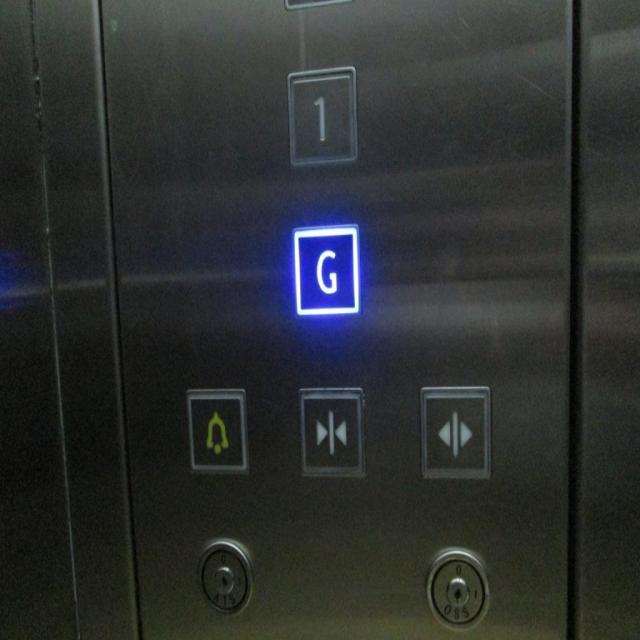1: (286, 65, 358, 170)
G: (293, 221, 361, 315)
alarm: (180, 383, 249, 478)
close: (296, 388, 366, 482)
keyhole: (424, 545, 492, 636), (196, 535, 255, 618)
open: (417, 385, 490, 480)
